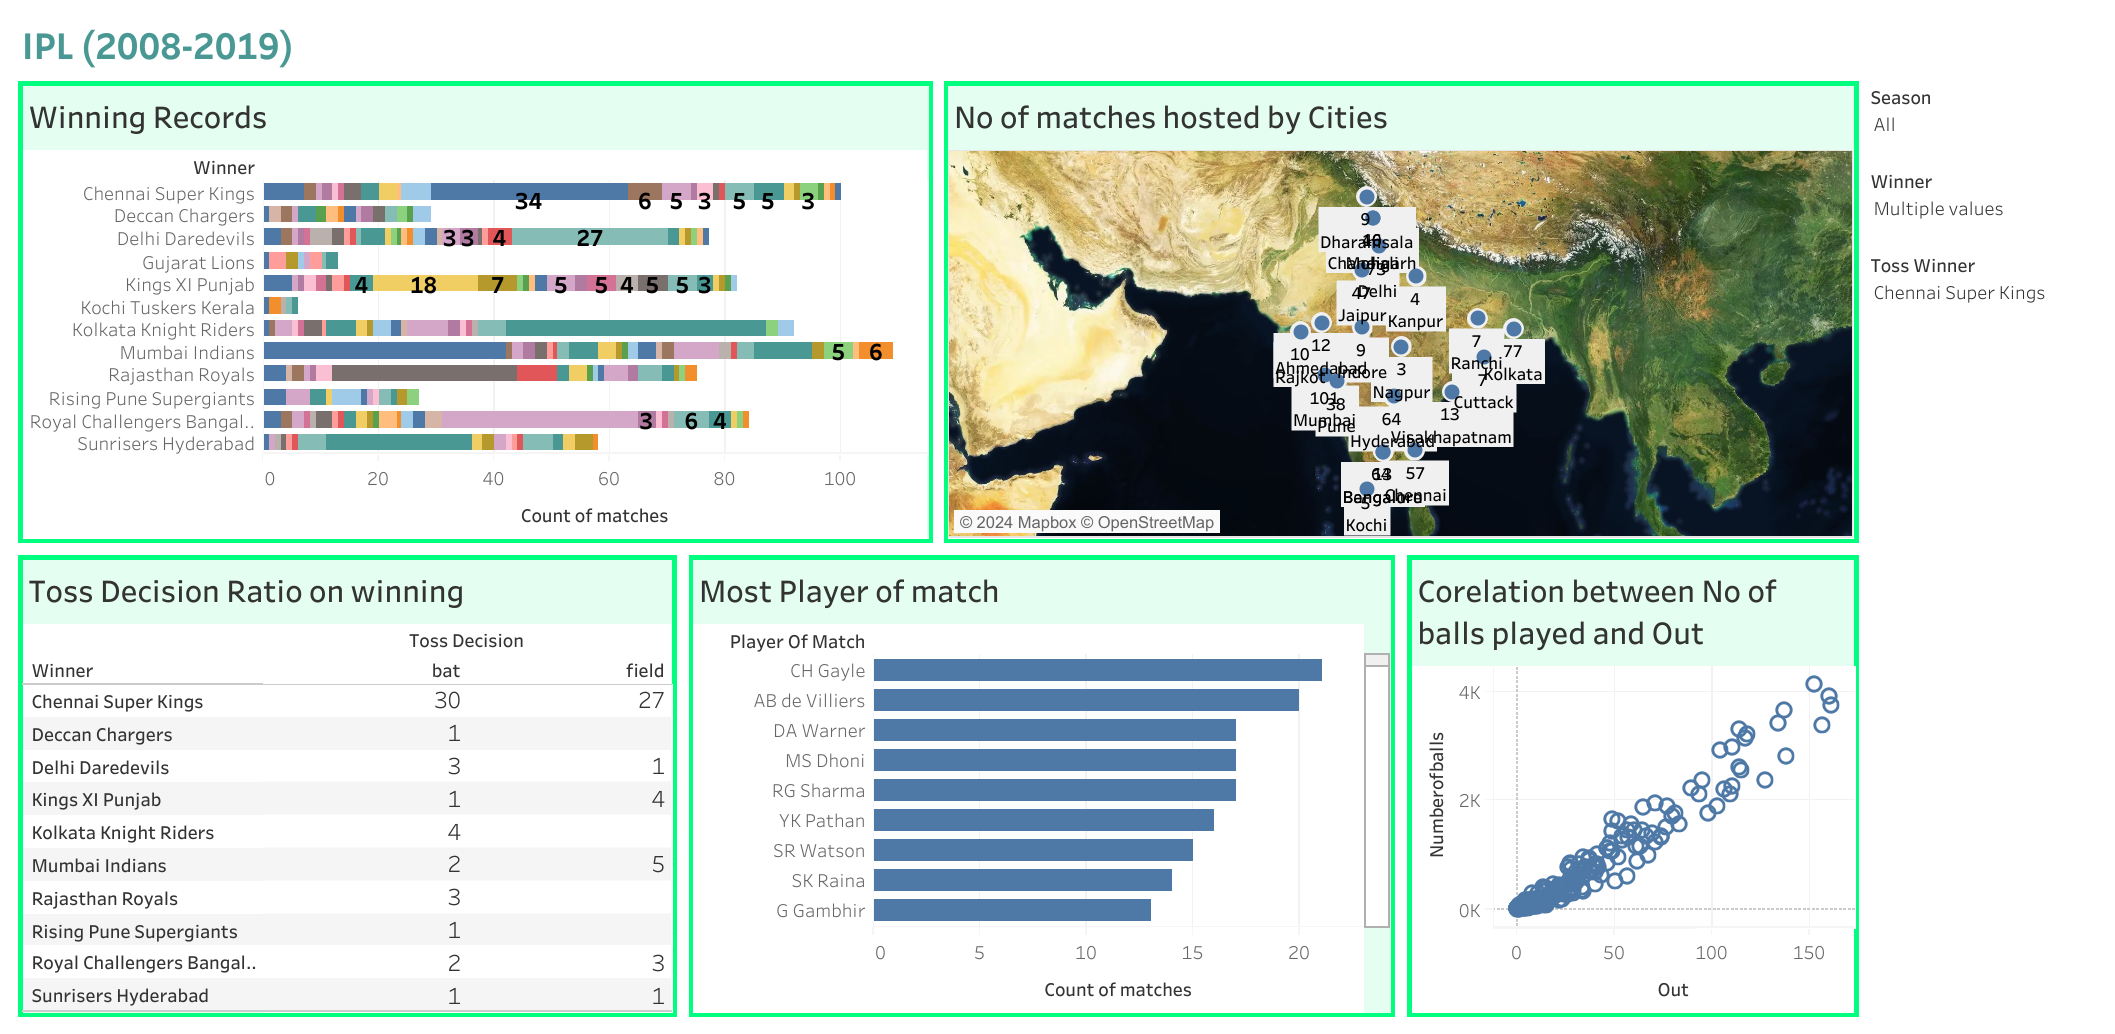

The dashboard page shown, as its layout file describes it:
{"tool":"tableau","page":{"name":"Dashboard 1","canvas":[1000,1000],"units":"permille","ordinal":0},"visuals":[{"type":"title","box":[3.6,7.1,992.7,50.6]},{"type":"worksheet","title":"Winning Records ","mark":"Automatic","rows":["winner"],"cols":["matches_0DAD14255EE04966B062324363536925"],"box":[3.6,57.7,460,467.6]},{"type":"worksheet","title":"No of matches hosted by Cities","mark":"Automatic","box":[463.7,57.7,460,467.6]},{"type":"filter","title":"Winning Records ","param":"[federated.122nq7v146xjvx12j3yfd041adaq].[none:Season:nk]","box":[923.7,57.7,72.7,62.2]},{"type":"filter","title":"Winning Records ","param":"[federated.122nq7v146xjvx12j3yfd041adaq].[none:winner:nk]","box":[923.7,119.9,72.7,62.2]},{"type":"filter","title":"Toss Decision Ratio on winning","param":"[federated.122nq7v146xjvx12j3yfd041adaq].[none:toss_winner:nk]","box":[923.7,182,72.7,62.2]},{"type":"worksheet","title":"Toss Decision Ratio on winning","mark":"Automatic","rows":["winner"],"cols":["toss_decision"],"box":[3.6,525.3,333.2,467.6]},{"type":"worksheet","title":"Most Player of match","mark":"Automatic","rows":["player_of_match"],"cols":["matches_0DAD14255EE04966B062324363536925"],"box":[336.8,525.3,356.9,467.6]},{"type":"worksheet","title":"Corelation between No of balls played and Out","mark":"Automatic","rows":["numberofballs"],"cols":["out"],"box":[693.7,525.3,230,467.6]}]}

Visuals, with their boxes on the dashboard's canvas, which has no fixed pixel size, in thousandths of its width and height (x1, y1, x2, y2). These are canvas units, not pixel positions in the 2115x1034 screenshot, which may show the page scaled, cropped or inside an application window:
title: {"left": 4, "top": 7, "right": 996, "bottom": 58}
"Winning Records " worksheet: {"left": 4, "top": 58, "right": 464, "bottom": 525}
"No of matches hosted by Cities" worksheet: {"left": 464, "top": 58, "right": 924, "bottom": 525}
"Winning Records " filter: {"left": 924, "top": 58, "right": 996, "bottom": 120}
"Winning Records " filter: {"left": 924, "top": 120, "right": 996, "bottom": 182}
"Toss Decision Ratio on winning" filter: {"left": 924, "top": 182, "right": 996, "bottom": 244}
"Toss Decision Ratio on winning" worksheet: {"left": 4, "top": 525, "right": 337, "bottom": 993}
"Most Player of match" worksheet: {"left": 337, "top": 525, "right": 694, "bottom": 993}
"Corelation between No of balls played and Out" worksheet: {"left": 694, "top": 525, "right": 924, "bottom": 993}
